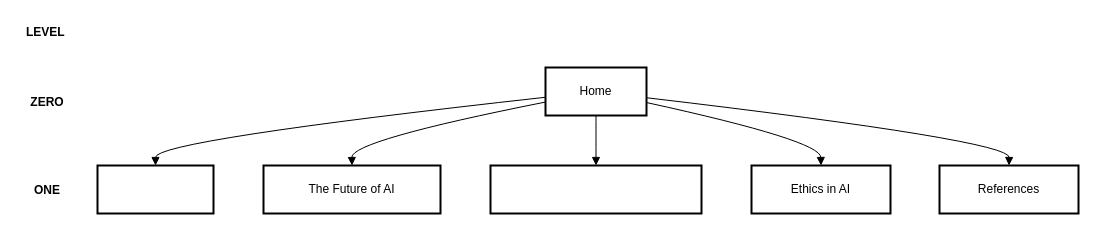
The diagram is 1096 pixels wide and 231 high, and some of its shapes have lost their labels. Here are the shapes that lost their labels. From the top down, the centre of each, then its label:
the point at 155,189: Contact
the point at 595,189: Risks & Benefits
